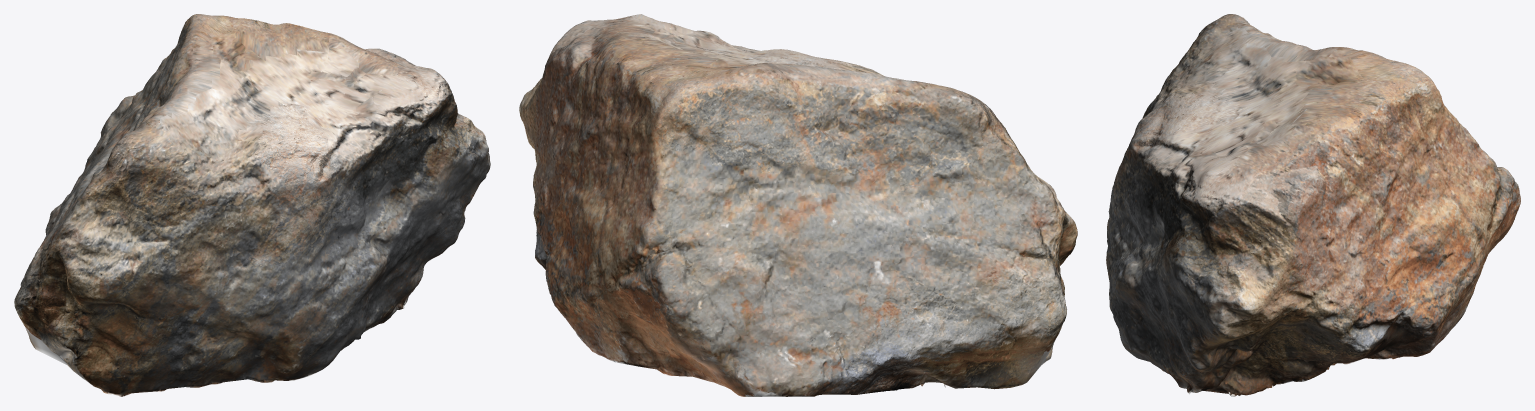
File: sparse2.glb
The picture shows the model from 3 angles, left to right: view 1: azimuth 30°, elevation 25°; view 2: azimuth 150°, elevation 25°; view 3: azimuth 270°, elevation 25°; orthographic projection. The views are drawn at different scales.
Visible parts, largest first — view 1: Node; view 2: Node; view 3: Node.
Part boxes in pixels (<box>): Node: <box>14,14,490,396</box>; Node: <box>519,14,1077,396</box>; Node: <box>1106,14,1520,396</box>.
Size of the model in its own units: 4.89 by 2.75 by 3.47.
1 material, 1 textured.
